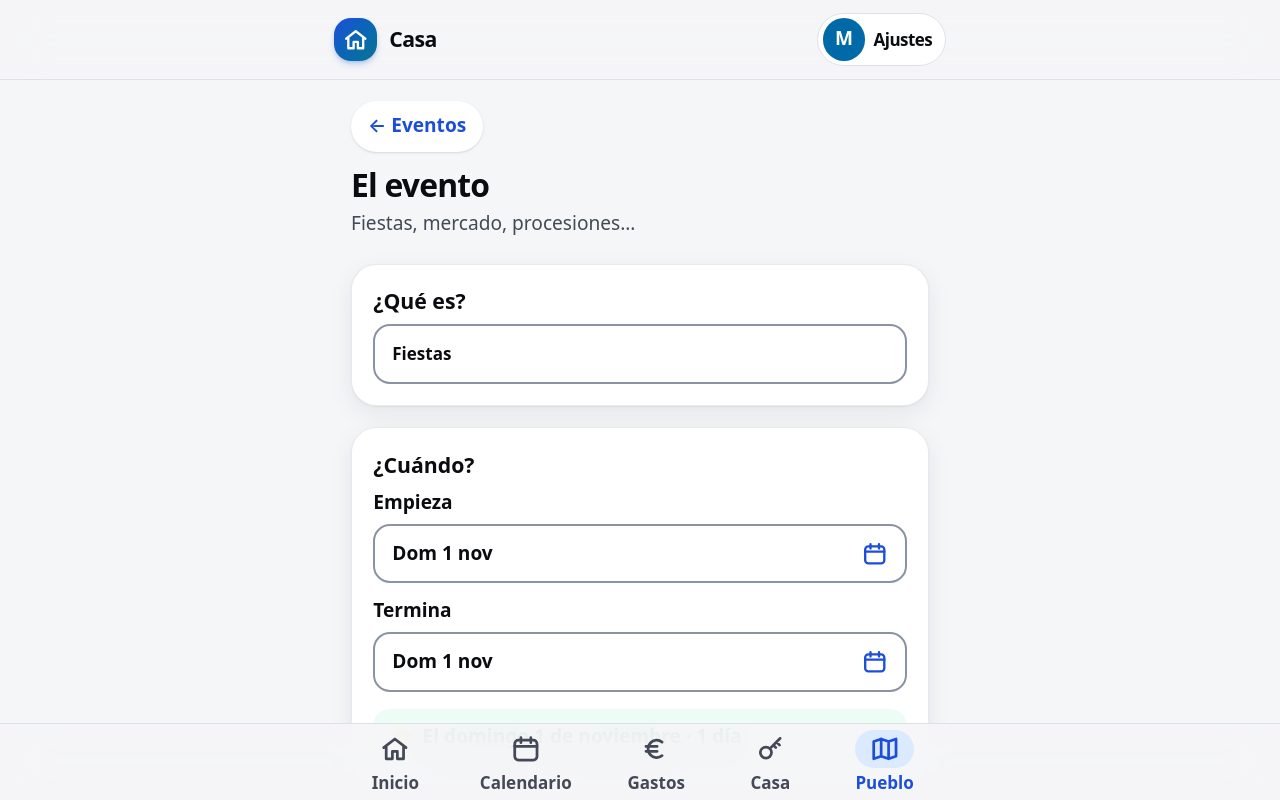
Test: toda la familia puede hacer de todo › si la base de datos no deja cambiarlo, lo dice en vez de fingir que se guardó
The image size is (1280, 800).
Type " 2026" into the field labelled "¿Qué es?" at (640, 354), box [373, 324, 907, 384]
(page scrolled)
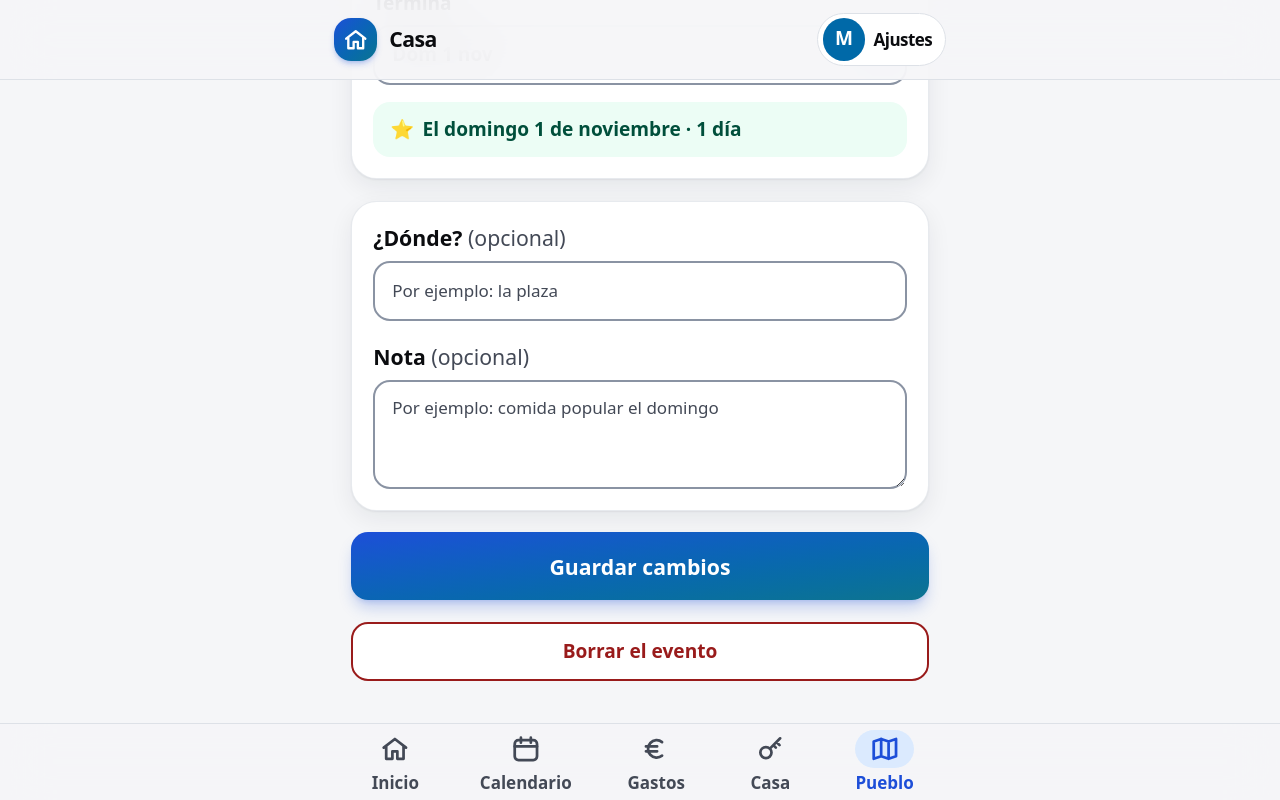
Click the button "Guardar cambios" at (640, 566), box [351, 532, 929, 600]
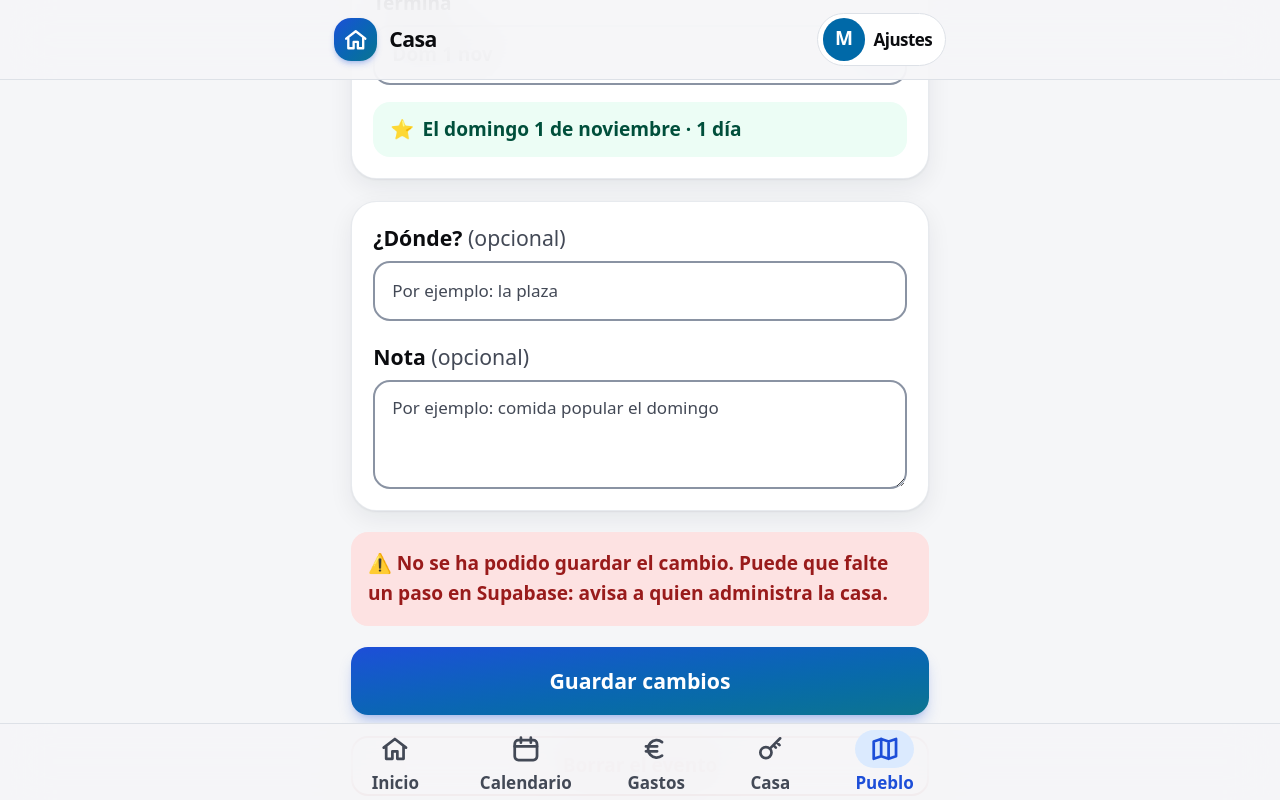
Check: the text "No se ha podido guardar el cambio" is shown, box [368, 550, 888, 606]
